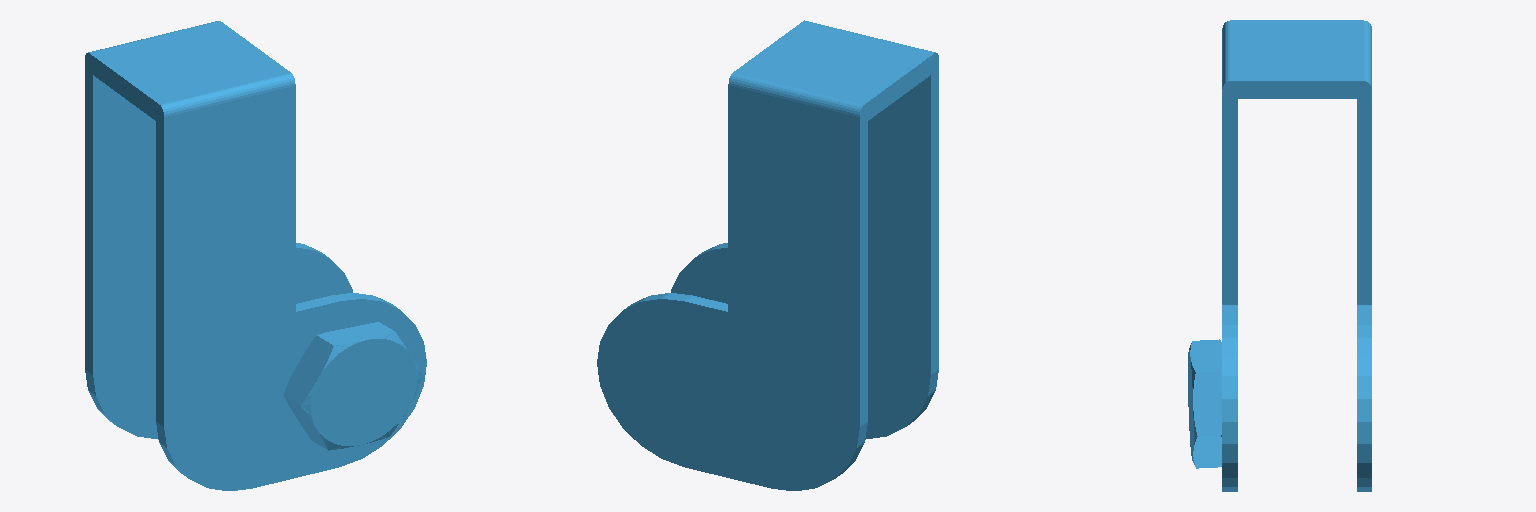
--- Facts derived from the render (not from the file) ---
Views: 3 orthographic renders of the robot side by side, from view 1: azimuth 30°, elevation 25°; view 2: azimuth 150°, elevation 25°; view 3: azimuth 270°, elevation 25°.
Robot: partnet_464e9b98-d955-4597-b746-4e8b73eab34b — 2 links, 1 joints (1 fixed); root link base; default pose: every joint at zero.
Links seen in each view (by area): view 1: link_1; view 2: link_1; view 3: link_1.
Boxes of the visible links, x1,y1,x2,y2 form: link_1: (85, 21, 426, 490); link_1: (597, 20, 938, 490); link_1: (1188, 20, 1371, 491).
Size in the robot's own frame: 0.1075 by 0.069 by 0.1572 metres.
Meshes: 3 distinct files referenced, 2 mesh visuals loaded (2 OBJ); not drawn: 1 (reference not matched to a file when rendering).

robot.urdf — partnet_464e9b98-d955-4597-b746-4e8b73eab34b:
<robot name="partnet_464e9b98-d955-4597-b746-4e8b73eab34b">
	<link name="base" />
	<link name="link_1">
		<collision>
			<origin xyz="0 0 0" />
			<geometry>
				<mesh filename="new5_objs/base_body-2-0.obj" />
			</geometry>
		</collision>
		<collision>
			<origin xyz="0 0 0" />
			<geometry>
				<mesh filename="new5_objs/base_body-2-1.obj" />
			</geometry>
		</collision>
		<collision>
			<origin xyz="0 0 0" />
			<geometry>
				<mesh filename="new5_objs/base_body-2-2.obj" />
			</geometry>
		</collision>
		<collision>
			<origin xyz="0 0 0" />
			<geometry>
				<mesh filename="new5_objs/base_body-2-3.obj" />
			</geometry>
		</collision>
		<collision>
			<origin xyz="0 0 0" />
			<geometry>
				<mesh filename="new5_objs/base_body-2-4.obj" />
			</geometry>
		</collision>
		<collision>
			<origin xyz="0 0 0" />
			<geometry>
				<mesh filename="new5_objs/base_body-2-5.obj" />
			</geometry>
		</collision>
		<collision>
			<origin xyz="0 0 0" />
			<geometry>
				<mesh filename="new5_objs/base_body-2-6.obj" />
			</geometry>
		</collision>
		<collision>
			<origin xyz="0 0 0" />
			<geometry>
				<mesh filename="new5_objs/base_body-2-7.obj" />
			</geometry>
		</collision>
		<collision>
			<origin xyz="0 0 0" />
			<geometry>
				<mesh filename="new5_objs/base_body-2-8.obj" />
			</geometry>
		</collision>
		<collision>
			<origin xyz="0 0 0" />
			<geometry>
				<mesh filename="new5_objs/base_body-2-9.obj" />
			</geometry>
		</collision>
		<collision>
			<origin xyz="0 0 0" />
			<geometry>
				<mesh filename="new5_objs/base_body-2-10.obj" />
			</geometry>
		</collision>
		<collision>
			<origin xyz="0 0 0" />
			<geometry>
				<mesh filename="new5_objs/base_body-2-11.obj" />
			</geometry>
		</collision>
		<collision>
			<origin xyz="0 0 0" />
			<geometry>
				<mesh filename="new5_objs/base_body-2-12.obj" />
			</geometry>
		</collision>
		<collision>
			<origin xyz="0 0 0" />
			<geometry>
				<mesh filename="new5_objs/base_body-2-13.obj" />
			</geometry>
		</collision>
		<collision>
			<origin xyz="0 0 0" />
			<geometry>
				<mesh filename="new5_objs/base_body-2-14.obj" />
			</geometry>
		</collision>
		<collision>
			<origin xyz="0 0 0" />
			<geometry>
				<mesh filename="new5_objs/base_body-2-15.obj" />
			</geometry>
		</collision>
		<collision>
			<origin xyz="0 0 0" />
			<geometry>
				<mesh filename="new5_objs/base_body-2-16.obj" />
			</geometry>
		</collision>
		<collision>
			<origin xyz="0 0 0" />
			<geometry>
				<mesh filename="new5_objs/base_body-2-17.obj" />
			</geometry>
		</collision>
		<collision>
			<origin xyz="0 0 0" />
			<geometry>
				<mesh filename="new5_objs/base_body-2-18.obj" />
			</geometry>
		</collision>
		<collision>
			<origin xyz="0 0 0" />
			<geometry>
				<mesh filename="new5_objs/base_body-2-19.obj" />
			</geometry>
		</collision>
		<collision>
			<origin xyz="0 0 0" />
			<geometry>
				<mesh filename="new5_objs/base_body-2-20.obj" />
			</geometry>
		</collision>
		<collision>
			<origin xyz="0 0 0" />
			<geometry>
				<mesh filename="new5_objs/base_body-2-21.obj" />
			</geometry>
		</collision>
		<collision>
			<origin xyz="0 0 0" />
			<geometry>
				<mesh filename="new5_objs/base_body-2-22.obj" />
			</geometry>
		</collision>
		<collision>
			<origin xyz="0 0 0" />
			<geometry>
				<mesh filename="new5_objs/base_body-2-23.obj" />
			</geometry>
		</collision>
		<collision>
			<origin xyz="0 0 0" />
			<geometry>
				<mesh filename="new5_objs/base_body-2-24.obj" />
			</geometry>
		</collision>
		<collision>
			<origin xyz="0 0 0" />
			<geometry>
				<mesh filename="new5_objs/base_body-2-25.obj" />
			</geometry>
		</collision>
		<collision>
			<origin xyz="0 0 0" />
			<geometry>
				<mesh filename="new5_objs/base_body-2-26.obj" />
			</geometry>
		</collision>
		<collision>
			<origin xyz="0 0 0" />
			<geometry>
				<mesh filename="new5_objs/base_body-2-27.obj" />
			</geometry>
		</collision>
		<collision>
			<origin xyz="0 0 0" />
			<geometry>
				<mesh filename="new5_objs/base_body-2-28.obj" />
			</geometry>
		</collision>
		<collision>
			<origin xyz="0 0 0" />
			<geometry>
				<mesh filename="new5_objs/base_body-2-29.obj" />
			</geometry>
		</collision>
		<collision>
			<origin xyz="0 0 0" />
			<geometry>
				<mesh filename="new5_objs/base_body-2-30.obj" />
			</geometry>
		</collision>
		<collision>
			<origin xyz="0 0 0" />
			<geometry>
				<mesh filename="new5_objs/base_body-2-31.obj" />
			</geometry>
		</collision>
		<collision>
			<origin xyz="0 0 0" />
			<geometry>
				<mesh filename="new5_objs/base_body-2-32.obj" />
			</geometry>
		</collision>
		<collision>
			<origin xyz="0 0 0" />
			<geometry>
				<mesh filename="new5_objs/base_body-2-33.obj" />
			</geometry>
		</collision>
		<collision>
			<origin xyz="0 0 0" />
			<geometry>
				<mesh filename="new5_objs/base_body-2-34.obj" />
			</geometry>
		</collision>
		<collision>
			<origin xyz="0 0 0" />
			<geometry>
				<mesh filename="new5_objs/base_body-2-35.obj" />
			</geometry>
		</collision>
		<collision>
			<origin xyz="0 0 0" />
			<geometry>
				<mesh filename="new5_objs/base_body-2-36.obj" />
			</geometry>
		</collision>
		<collision>
			<origin xyz="0 0 0" />
			<geometry>
				<mesh filename="new5_objs/base_body-2-37.obj" />
			</geometry>
		</collision>
		<collision>
			<origin xyz="0 0 0" />
			<geometry>
				<mesh filename="new5_objs/base_body-2-38.obj" />
			</geometry>
		</collision>
		<collision>
			<origin xyz="0 0 0" />
			<geometry>
				<mesh filename="new5_objs/base_body-2-39.obj" />
			</geometry>
		</collision>
		<collision>
			<origin xyz="0 0 0" />
			<geometry>
				<mesh filename="new5_objs/base_body-2-40.obj" />
			</geometry>
		</collision>
		<collision>
			<origin xyz="0 0 0" />
			<geometry>
				<mesh filename="new5_objs/base_body-2-41.obj" />
			</geometry>
		</collision>
		<collision>
			<origin xyz="0 0 0" />
			<geometry>
				<mesh filename="new5_objs/base_body-2-42.obj" />
			</geometry>
		</collision>
		<collision>
			<origin xyz="0 0 0" />
			<geometry>
				<mesh filename="new5_objs/base_body-2-43.obj" />
			</geometry>
		</collision>
		<collision>
			<origin xyz="0 0 0" />
			<geometry>
				<mesh filename="new5_objs/base_body-2-44.obj" />
			</geometry>
		</collision>
		<collision>
			<origin xyz="0 0 0" />
			<geometry>
				<mesh filename="new5_objs/base_body-2-45.obj" />
			</geometry>
		</collision>
		<collision>
			<origin xyz="0 0 0" />
			<geometry>
				<mesh filename="new5_objs/base_body-2-46.obj" />
			</geometry>
		</collision>
		<collision>
			<origin xyz="0 0 0" />
			<geometry>
				<mesh filename="new5_objs/base_body-2-47.obj" />
			</geometry>
		</collision>
		<collision>
			<origin xyz="0 0 0" />
			<geometry>
				<mesh filename="new5_objs/base_body-2-48.obj" />
			</geometry>
		</collision>
		<collision>
			<origin xyz="0 0 0" />
			<geometry>
				<mesh filename="new5_objs/base_body-2-49.obj" />
			</geometry>
		</collision>
		<collision>
			<origin xyz="0 0 0" />
			<geometry>
				<mesh filename="new5_objs/base_body-2-50.obj" />
			</geometry>
		</collision>
		<collision>
			<origin xyz="0 0 0" />
			<geometry>
				<mesh filename="new5_objs/base_body-2-51.obj" />
			</geometry>
		</collision>
		<collision>
			<origin xyz="0 0 0" />
			<geometry>
				<mesh filename="new5_objs/base_body-2-52.obj" />
			</geometry>
		</collision>
		<collision>
			<origin xyz="0 0 0" />
			<geometry>
				<mesh filename="new5_objs/base_body-2-53.obj" />
			</geometry>
		</collision>
		<collision>
			<origin xyz="0 0 0" />
			<geometry>
				<mesh filename="new5_objs/base_body-2-54.obj" />
			</geometry>
		</collision>
		<collision>
			<origin xyz="0 0 0" />
			<geometry>
				<mesh filename="new5_objs/base_body-2-55.obj" />
			</geometry>
		</collision>
		<collision>
			<origin xyz="0 0 0" />
			<geometry>
				<mesh filename="new5_objs/base_body-2-56.obj" />
			</geometry>
		</collision>
		<collision>
			<origin xyz="0 0 0" />
			<geometry>
				<mesh filename="new5_objs/base_body-2-57.obj" />
			</geometry>
		</collision>
		<collision>
			<origin xyz="0 0 0" />
			<geometry>
				<mesh filename="new5_objs/base_body-2-58.obj" />
			</geometry>
		</collision>
		<collision>
			<origin xyz="0 0 0" />
			<geometry>
				<mesh filename="new5_objs/base_body-2-59.obj" />
			</geometry>
		</collision>
		<collision>
			<origin xyz="0 0 0" />
			<geometry>
				<mesh filename="new5_objs/base_body-2-60.obj" />
			</geometry>
		</collision>
		<collision>
			<origin xyz="0 0 0" />
			<geometry>
				<mesh filename="new5_objs/base_body-2-61.obj" />
			</geometry>
		</collision>
		<collision>
			<origin xyz="0 0 0" />
			<geometry>
				<mesh filename="new5_objs/base_body-2-62.obj" />
			</geometry>
		</collision>
		<collision>
			<origin xyz="0 0 0" />
			<geometry>
				<mesh filename="new5_objs/base_body-2-63.obj" />
			</geometry>
		</collision>
		<collision>
			<origin xyz="0 0 0" />
			<geometry>
				<mesh filename="new5_objs/base_body-2-64.obj" />
			</geometry>
		</collision>
		<collision>
			<origin xyz="0 0 0" />
			<geometry>
				<mesh filename="new5_objs/base_body-2-65.obj" />
			</geometry>
		</collision>
		<collision>
			<origin xyz="0 0 0" />
			<geometry>
				<mesh filename="new5_objs/base_body-2-66.obj" />
			</geometry>
		</collision>
		<collision>
			<origin xyz="0 0 0" />
			<geometry>
				<mesh filename="new5_objs/base_body-2-67.obj" />
			</geometry>
		</collision>
		<collision>
			<origin xyz="0 0 0" />
			<geometry>
				<mesh filename="new5_objs/base_body-2-68.obj" />
			</geometry>
		</collision>
		<collision>
			<origin xyz="0 0 0" />
			<geometry>
				<mesh filename="new5_objs/base_body-2-69.obj" />
			</geometry>
		</collision>
		<collision>
			<origin xyz="0 0 0" />
			<geometry>
				<mesh filename="new5_objs/base_body-2-70.obj" />
			</geometry>
		</collision>
		<collision>
			<origin xyz="0 0 0" />
			<geometry>
				<mesh filename="new5_objs/base_body-2-71.obj" />
			</geometry>
		</collision>
		<collision>
			<origin xyz="0 0 0" />
			<geometry>
				<mesh filename="new5_objs/base_body-2-72.obj" />
			</geometry>
		</collision>
		<collision>
			<origin xyz="0 0 0" />
			<geometry>
				<mesh filename="new5_objs/base_body-2-73.obj" />
			</geometry>
		</collision>
		<collision>
			<origin xyz="0 0 0" />
			<geometry>
				<mesh filename="new5_objs/base_body-2-74.obj" />
			</geometry>
		</collision>
		<collision>
			<origin xyz="0 0 0" />
			<geometry>
				<mesh filename="new5_objs/base_body-2-75.obj" />
			</geometry>
		</collision>
		<collision>
			<origin xyz="0 0 0" />
			<geometry>
				<mesh filename="new5_objs/base_body-2-76.obj" />
			</geometry>
		</collision>
		<collision>
			<origin xyz="0 0 0" />
			<geometry>
				<mesh filename="new5_objs/base_body-2-77.obj" />
			</geometry>
		</collision>
		<collision>
			<origin xyz="0 0 0" />
			<geometry>
				<mesh filename="new5_objs/base_body-2-78.obj" />
			</geometry>
		</collision>
		<collision>
			<origin xyz="0 0 0" />
			<geometry>
				<mesh filename="new5_objs/base_body-2-79.obj" />
			</geometry>
		</collision>
		<collision>
			<origin xyz="0 0 0" />
			<geometry>
				<mesh filename="new5_objs/base_body-2-80.obj" />
			</geometry>
		</collision>
		<collision>
			<origin xyz="0 0 0" />
			<geometry>
				<mesh filename="new5_objs/base_body-2-81.obj" />
			</geometry>
		</collision>
		<collision>
			<origin xyz="0 0 0" />
			<geometry>
				<mesh filename="new5_objs/base_body-2-82.obj" />
			</geometry>
		</collision>
		<collision>
			<origin xyz="0 0 0" />
			<geometry>
				<mesh filename="new5_objs/base_body-2-83.obj" />
			</geometry>
		</collision>
		<collision>
			<origin xyz="0 0 0" />
			<geometry>
				<mesh filename="new5_objs/base_body-2-84.obj" />
			</geometry>
		</collision>
		<collision>
			<origin xyz="0 0 0" />
			<geometry>
				<mesh filename="new5_objs/base_body-2-85.obj" />
			</geometry>
		</collision>
		<collision>
			<origin xyz="0 0 0" />
			<geometry>
				<mesh filename="new5_objs/base_body-2-86.obj" />
			</geometry>
		</collision>
		<collision>
			<origin xyz="0 0 0" />
			<geometry>
				<mesh filename="new5_objs/base_body-2-87.obj" />
			</geometry>
		</collision>
		<collision>
			<origin xyz="0 0 0" />
			<geometry>
				<mesh filename="new5_objs/base_body-2-88.obj" />
			</geometry>
		</collision>
		<collision>
			<origin xyz="0 0 0" />
			<geometry>
				<mesh filename="new5_objs/base_body-2-89.obj" />
			</geometry>
		</collision>
		<collision>
			<origin xyz="0 0 0" />
			<geometry>
				<mesh filename="new5_objs/base_body-2-90.obj" />
			</geometry>
		</collision>
		<collision>
			<origin xyz="0 0 0" />
			<geometry>
				<mesh filename="new5_objs/base_body-2-91.obj" />
			</geometry>
		</collision>
		<collision>
			<origin xyz="0 0 0" />
			<geometry>
				<mesh filename="new5_objs/base_body-2-92.obj" />
			</geometry>
		</collision>
		<collision>
			<origin xyz="0 0 0" />
			<geometry>
				<mesh filename="new5_objs/base_body-2-93.obj" />
			</geometry>
		</collision>
		<collision>
			<origin xyz="0 0 0" />
			<geometry>
				<mesh filename="new5_objs/base_body-2-94.obj" />
			</geometry>
		</collision>
		<collision>
			<origin xyz="0 0 0" />
			<geometry>
				<mesh filename="new5_objs/base_body-2-95.obj" />
			</geometry>
		</collision>
		<collision>
			<origin xyz="0 0 0" />
			<geometry>
				<mesh filename="new5_objs/base_body-2-96.obj" />
			</geometry>
		</collision>
		<collision>
			<origin xyz="0 0 0" />
			<geometry>
				<mesh filename="new5_objs/base_body-2-97.obj" />
			</geometry>
		</collision>
		<collision>
			<origin xyz="0 0 0" />
			<geometry>
				<mesh filename="new5_objs/base_body-2-98.obj" />
			</geometry>
		</collision>
		<collision>
			<origin xyz="0 0 0" />
			<geometry>
				<mesh filename="new5_objs/base_body-2-99.obj" />
			</geometry>
		</collision>
		<collision>
			<origin xyz="0 0 0" />
			<geometry>
				<mesh filename="new5_objs/base_body-2-100.obj" />
			</geometry>
		</collision>
		<collision>
			<origin xyz="0 0 0" />
			<geometry>
				<mesh filename="new5_objs/base_body-2-101.obj" />
			</geometry>
		</collision>
		<collision>
			<origin xyz="0 0 0" />
			<geometry>
				<mesh filename="new5_objs/base_body-2-102.obj" />
			</geometry>
		</collision>
		<collision>
			<origin xyz="0 0 0" />
			<geometry>
				<mesh filename="new5_objs/base_body-2-103.obj" />
			</geometry>
		</collision>
		<collision>
			<origin xyz="0 0 0" />
			<geometry>
				<mesh filename="new5_objs/base_body-2-104.obj" />
			</geometry>
		</collision>
		<collision>
			<origin xyz="0 0 0" />
			<geometry>
				<mesh filename="new5_objs/base_body-2-105.obj" />
			</geometry>
		</collision>
		<collision>
			<origin xyz="0 0 0" />
			<geometry>
				<mesh filename="new5_objs/base_body-2-106.obj" />
			</geometry>
		</collision>
		<collision>
			<origin xyz="0 0 0" />
			<geometry>
				<mesh filename="new5_objs/base_body-2-107.obj" />
			</geometry>
		</collision>
		<collision>
			<origin xyz="0 0 0" />
			<geometry>
				<mesh filename="new5_objs/base_body-2-108.obj" />
			</geometry>
		</collision>
		<collision>
			<origin xyz="0 0 0" />
			<geometry>
				<mesh filename="new5_objs/base_body-2-109.obj" />
			</geometry>
		</collision>
		<collision>
			<origin xyz="0 0 0" />
			<geometry>
				<mesh filename="new5_objs/base_body-2-110.obj" />
			</geometry>
		</collision>
		<collision>
			<origin xyz="0 0 0" />
			<geometry>
				<mesh filename="new5_objs/base_body-2-111.obj" />
			</geometry>
		</collision>
		<collision>
			<origin xyz="0 0 0" />
			<geometry>
				<mesh filename="new5_objs/base_body-2-112.obj" />
			</geometry>
		</collision>
		<collision>
			<origin xyz="0 0 0" />
			<geometry>
				<mesh filename="new5_objs/base_body-2-113.obj" />
			</geometry>
		</collision>
		<collision>
			<origin xyz="0 0 0" />
			<geometry>
				<mesh filename="new5_objs/base_body-2-114.obj" />
			</geometry>
		</collision>
		<collision>
			<origin xyz="0 0 0" />
			<geometry>
				<mesh filename="new5_objs/base_body-2-115.obj" />
			</geometry>
		</collision>
		<collision>
			<origin xyz="0 0 0" />
			<geometry>
				<mesh filename="new5_objs/base_body-2-116.obj" />
			</geometry>
		</collision>
		<collision>
			<origin xyz="0 0 0" />
			<geometry>
				<mesh filename="new5_objs/base_body-2-117.obj" />
			</geometry>
		</collision>
		<collision>
			<origin xyz="0 0 0" />
			<geometry>
				<mesh filename="new5_objs/base_body-2-118.obj" />
			</geometry>
		</collision>
		<collision>
			<origin xyz="0 0 0" />
			<geometry>
				<mesh filename="new5_objs/base_body-2-119.obj" />
			</geometry>
		</collision>
		<collision>
			<origin xyz="0 0 0" />
			<geometry>
				<mesh filename="new5_objs/base_body-2-120.obj" />
			</geometry>
		</collision>
		<collision>
			<origin xyz="0 0 0" />
			<geometry>
				<mesh filename="new5_objs/base_body-2-121.obj" />
			</geometry>
		</collision>
		<collision>
			<origin xyz="0 0 0" />
			<geometry>
				<mesh filename="new5_objs/base_body-2-122.obj" />
			</geometry>
		</collision>
		<collision>
			<origin xyz="0 0 0" />
			<geometry>
				<mesh filename="new5_objs/base_body-2-123.obj" />
			</geometry>
		</collision>
		<collision>
			<origin xyz="0 0 0" />
			<geometry>
				<mesh filename="new5_objs/base_body-2-124.obj" />
			</geometry>
		</collision>
		<collision>
			<origin xyz="0 0 0" />
			<geometry>
				<mesh filename="new5_objs/base_body-2-125.obj" />
			</geometry>
		</collision>
		<collision>
			<origin xyz="0 0 0" />
			<geometry>
				<mesh filename="new5_objs/base_body-2-126.obj" />
			</geometry>
		</collision>
		<collision>
			<origin xyz="0 0 0" />
			<geometry>
				<mesh filename="new5_objs/base_body-2-127.obj" />
			</geometry>
		</collision>
		<collision>
			<origin xyz="0 0 0" />
			<geometry>
				<mesh filename="new5_objs/base_body-2-128.obj" />
			</geometry>
		</collision>
		<collision>
			<origin xyz="0 0 0" />
			<geometry>
				<mesh filename="new5_objs/base_body-2-129.obj" />
			</geometry>
		</collision>
		<collision>
			<origin xyz="0 0 0" />
			<geometry>
				<mesh filename="new5_objs/base_body-2-130.obj" />
			</geometry>
		</collision>
		<collision>
			<origin xyz="0 0 0" />
			<geometry>
				<mesh filename="new5_objs/base_body-2-131.obj" />
			</geometry>
		</collision>
		<collision>
			<origin xyz="0 0 0" />
			<geometry>
				<mesh filename="new5_objs/base_body-2-132.obj" />
			</geometry>
		</collision>
		<collision>
			<origin xyz="0 0 0" />
			<geometry>
				<mesh filename="new5_objs/base_body-2-133.obj" />
			</geometry>
		</collision>
		<collision>
			<origin xyz="0 0 0" />
			<geometry>
				<mesh filename="new5_objs/base_body-2-134.obj" />
			</geometry>
		</collision>
		<collision>
			<origin xyz="0 0 0" />
			<geometry>
				<mesh filename="new5_objs/base_body-2-135.obj" />
			</geometry>
		</collision>
		<collision>
			<origin xyz="0 0 0" />
			<geometry>
				<mesh filename="new5_objs/base_body-2-136.obj" />
			</geometry>
		</collision>
		<collision>
			<origin xyz="0 0 0" />
			<geometry>
				<mesh filename="new5_objs/base_body-2-137.obj" />
			</geometry>
		</collision>
		<collision>
			<origin xyz="0 0 0" />
			<geometry>
				<mesh filename="new5_objs/base_body-2-138.obj" />
			</geometry>
		</collision>
		<collision>
			<origin xyz="0 0 0" />
			<geometry>
				<mesh filename="new5_objs/base_body-2-139.obj" />
			</geometry>
		</collision>
		<collision>
			<origin xyz="0 0 0" />
			<geometry>
				<mesh filename="new5_objs/base_body-2-140.obj" />
			</geometry>
		</collision>
		<collision>
			<origin xyz="0 0 0" />
			<geometry>
				<mesh filename="new5_objs/base_body-2-141.obj" />
			</geometry>
		</collision>
		<collision>
			<origin xyz="0 0 0" />
			<geometry>
				<mesh filename="new5_objs/base_body-2-142.obj" />
			</geometry>
		</collision>
		<collision>
			<origin xyz="0 0 0" />
			<geometry>
				<mesh filename="new5_objs/base_body-2-143.obj" />
			</geometry>
		</collision>
		<collision>
			<origin xyz="0 0 0" />
			<geometry>
				<mesh filename="new5_objs/base_body-2-144.obj" />
			</geometry>
		</collision>
		<collision>
			<origin xyz="0 0 0" />
			<geometry>
				<mesh filename="new5_objs/base_body-2-145.obj" />
			</geometry>
		</collision>
		<collision>
			<origin xyz="0 0 0" />
			<geometry>
				<mesh filename="new5_objs/base_body-2-146.obj" />
			</geometry>
		</collision>
		<collision>
			<origin xyz="0 0 0" />
			<geometry>
				<mesh filename="new5_objs/base_body-2-147.obj" />
			</geometry>
		</collision>
		<collision>
			<origin xyz="0 0 0" />
			<geometry>
				<mesh filename="new5_objs/base_body-2-148.obj" />
			</geometry>
		</collision>
		<collision>
			<origin xyz="0 0 0" />
			<geometry>
				<mesh filename="new5_objs/base_body-2-149.obj" />
			</geometry>
		</collision>
		<collision>
			<origin xyz="0 0 0" />
			<geometry>
				<mesh filename="new5_objs/base_body-2-150.obj" />
			</geometry>
		</collision>
		<collision>
			<origin xyz="0 0 0" />
			<geometry>
				<mesh filename="new5_objs/base_body-2-151.obj" />
			</geometry>
		</collision>
		<collision>
			<origin xyz="0 0 0" />
			<geometry>
				<mesh filename="new5_objs/base_body-2-152.obj" />
			</geometry>
		</collision>
		<collision>
			<origin xyz="0 0 0" />
			<geometry>
				<mesh filename="new5_objs/base_body-2-153.obj" />
			</geometry>
		</collision>
		<collision>
			<origin xyz="0 0 0" />
			<geometry>
				<mesh filename="new5_objs/base_body-2-154.obj" />
			</geometry>
		</collision>
		<collision>
			<origin xyz="0 0 0" />
			<geometry>
				<mesh filename="new5_objs/base_body-2-155.obj" />
			</geometry>
		</collision>
		<collision>
			<origin xyz="0 0 0" />
			<geometry>
				<mesh filename="new5_objs/base_body-2-156.obj" />
			</geometry>
		</collision>
		<collision>
			<origin xyz="0 0 0" />
			<geometry>
				<mesh filename="new5_objs/base_body-2-157.obj" />
			</geometry>
		</collision>
		<collision>
			<origin xyz="0 0 0" />
			<geometry>
				<mesh filename="new5_objs/base_body-2-158.obj" />
			</geometry>
		</collision>
		<collision>
			<origin xyz="0 0 0" />
			<geometry>
				<mesh filename="new5_objs/base_body-2-159.obj" />
			</geometry>
		</collision>
		<collision>
			<origin xyz="0 0 0" />
			<geometry>
				<mesh filename="new5_objs/base_body-2-160.obj" />
			</geometry>
		</collision>
		<collision>
			<origin xyz="0 0 0" />
			<geometry>
				<mesh filename="new5_objs/base_body-2-161.obj" />
			</geometry>
		</collision>
		<collision>
			<origin xyz="0 0 0" />
			<geometry>
				<mesh filename="new5_objs/base_body-2-162.obj" />
			</geometry>
		</collision>
		<collision>
			<origin xyz="0 0 0" />
			<geometry>
				<mesh filename="new5_objs/base_body-2-163.obj" />
			</geometry>
		</collision>
		<collision>
			<origin xyz="0 0 0" />
			<geometry>
				<mesh filename="new5_objs/base_body-2-164.obj" />
			</geometry>
		</collision>
		<collision>
			<origin xyz="0 0 0" />
			<geometry>
				<mesh filename="new5_objs/base_body-2-165.obj" />
			</geometry>
		</collision>
		<collision>
			<origin xyz="0 0 0" />
			<geometry>
				<mesh filename="new5_objs/base_body-2-166.obj" />
			</geometry>
		</collision>
		<collision>
			<origin xyz="0 0 0" />
			<geometry>
				<mesh filename="new5_objs/base_body-2-167.obj" />
			</geometry>
		</collision>
		<collision>
			<origin xyz="0 0 0" />
			<geometry>
				<mesh filename="new5_objs/base_body-2-168.obj" />
			</geometry>
		</collision>
		<collision>
			<origin xyz="0 0 0" />
			<geometry>
				<mesh filename="new5_objs/base_body-2-169.obj" />
			</geometry>
		</collision>
		<collision>
			<origin xyz="0 0 0" />
			<geometry>
				<mesh filename="new5_objs/base_body-2-170.obj" />
			</geometry>
		</collision>
		<collision>
			<origin xyz="0 0 0" />
			<geometry>
				<mesh filename="new5_objs/base_body-2-171.obj" />
			</geometry>
		</collision>
		<collision>
			<origin xyz="0 0 0" />
			<geometry>
				<mesh filename="new5_objs/base_body-2-172.obj" />
			</geometry>
		</collision>
		<collision>
			<origin xyz="0 0 0" />
			<geometry>
				<mesh filename="new5_objs/base_body-2-173.obj" />
			</geometry>
		</collision>
		<collision>
			<origin xyz="0 0 0" />
			<geometry>
				<mesh filename="new5_objs/base_body-2-174.obj" />
			</geometry>
		</collision>
		<collision>
			<origin xyz="0 0 0" />
			<geometry>
				<mesh filename="new5_objs/base_body-2-175.obj" />
			</geometry>
		</collision>
		<collision>
			<origin xyz="0 0 0" />
			<geometry>
				<mesh filename="new5_objs/base_body-2-176.obj" />
			</geometry>
		</collision>
		<collision>
			<origin xyz="0 0 0" />
			<geometry>
				<mesh filename="new5_objs/base_body-2-177.obj" />
			</geometry>
		</collision>
		<collision>
			<origin xyz="0 0 0" />
			<geometry>
				<mesh filename="new5_objs/base_body-2-178.obj" />
			</geometry>
		</collision>
		<collision>
			<origin xyz="0 0 0" />
			<geometry>
				<mesh filename="new5_objs/base_body-2-179.obj" />
			</geometry>
		</collision>
		<collision>
			<origin xyz="0 0 0" />
			<geometry>
				<mesh filename="new5_objs/base_body-2-180.obj" />
			</geometry>
		</collision>
		<collision>
			<origin xyz="0 0 0" />
			<geometry>
				<mesh filename="new5_objs/base_body-2-181.obj" />
			</geometry>
		</collision>
		<collision>
			<origin xyz="0 0 0" />
			<geometry>
				<mesh filename="new5_objs/base_body-2-182.obj" />
			</geometry>
		</collision>
		<collision>
			<origin xyz="0 0 0" />
			<geometry>
				<mesh filename="new5_objs/base_body-2-183.obj" />
			</geometry>
		</collision>
		<collision>
			<origin xyz="0 0 0" />
			<geometry>
				<mesh filename="new5_objs/base_body-2-184.obj" />
			</geometry>
		</collision>
		<collision>
			<origin xyz="0 0 0" />
			<geometry>
				<mesh filename="new5_objs/base_body-2-185.obj" />
			</geometry>
		</collision>
		<collision>
			<origin xyz="0 0 0" />
			<geometry>
				<mesh filename="new5_objs/base_body-2-186.obj" />
			</geometry>
		</collision>
		<collision>
			<origin xyz="0 0 0" />
			<geometry>
				<mesh filename="new5_objs/base_body-2-187.obj" />
			</geometry>
		</collision>
		<collision>
			<origin xyz="0 0 0" />
			<geometry>
				<mesh filename="new5_objs/base_body-2-188.obj" />
			</geometry>
		</collision>
		<collision>
			<origin xyz="0 0 0" />
			<geometry>
				<mesh filename="new5_objs/base_body-2-189.obj" />
			</geometry>
		</collision>
		<collision>
			<origin xyz="0 0 0" />
			<geometry>
				<mesh filename="new5_objs/base_body-2-190.obj" />
			</geometry>
		</collision>
		<collision>
			<origin xyz="0 0 0" />
			<geometry>
				<mesh filename="new5_objs/base_body-2-191.obj" />
			</geometry>
		</collision>
		<collision>
			<origin xyz="0 0 0" />
			<geometry>
				<mesh filename="new5_objs/base_body-2-192.obj" />
			</geometry>
		</collision>
		<collision>
			<origin xyz="0 0 0" />
			<geometry>
				<mesh filename="new5_objs/base_body-2-193.obj" />
			</geometry>
		</collision>
		<collision>
			<origin xyz="0 0 0" />
			<geometry>
				<mesh filename="new5_objs/base_body-2-194.obj" />
			</geometry>
		</collision>
		<collision>
			<origin xyz="0 0 0" />
			<geometry>
				<mesh filename="new5_objs/base_body-2-195.obj" />
			</geometry>
		</collision>
		<collision>
			<origin xyz="0 0 0" />
			<geometry>
				<mesh filename="new5_objs/base_body-2-196.obj" />
			</geometry>
		</collision>
		<collision>
			<origin xyz="0 0 0" />
			<geometry>
				<mesh filename="new5_objs/base_body-2-197.obj" />
			</geometry>
		</collision>
		<collision>
			<origin xyz="0 0 0" />
			<geometry>
				<mesh filename="new5_objs/base_body-2-198.obj" />
			</geometry>
		</collision>
		<collision>
			<origin xyz="0 0 0" />
			<geometry>
				<mesh filename="new5_objs/base_body-2-199.obj" />
			</geometry>
		</collision>
		<collision>
			<origin xyz="0 0 0" />
			<geometry>
				<mesh filename="new5_objs/base_body-2-200.obj" />
			</geometry>
		</collision>
		<collision>
			<origin xyz="0 0 0" />
			<geometry>
				<mesh filename="new5_objs/base_body-2-201.obj" />
			</geometry>
		</collision>
		<collision>
			<origin xyz="0 0 0" />
			<geometry>
				<mesh filename="new5_objs/base_body-2-202.obj" />
			</geometry>
		</collision>
		<collision>
			<origin xyz="0 0 0" />
			<geometry>
				<mesh filename="new5_objs/base_body-2-203.obj" />
			</geometry>
		</collision>
		<collision>
			<origin xyz="0 0 0" />
			<geometry>
				<mesh filename="new5_objs/base_body-2-204.obj" />
			</geometry>
		</collision>
		<collision>
			<origin xyz="0 0 0" />
			<geometry>
				<mesh filename="new5_objs/base_body-2-205.obj" />
			</geometry>
		</collision>
		<collision>
			<origin xyz="0 0 0" />
			<geometry>
				<mesh filename="new5_objs/base_body-2-206.obj" />
			</geometry>
		</collision>
		<collision>
			<origin xyz="0 0 0" />
			<geometry>
				<mesh filename="new5_objs/base_body-2-207.obj" />
			</geometry>
		</collision>
		<collision>
			<origin xyz="0 0 0" />
			<geometry>
				<mesh filename="new5_objs/base_body-2-208.obj" />
			</geometry>
		</collision>
		<collision>
			<origin xyz="0 0 0" />
			<geometry>
				<mesh filename="new5_objs/base_body-2-209.obj" />
			</geometry>
		</collision>
		<collision>
			<origin xyz="0 0 0" />
			<geometry>
				<mesh filename="new5_objs/base_body-2-210.obj" />
			</geometry>
		</collision>
		<collision>
			<origin xyz="0 0 0" />
			<geometry>
				<mesh filename="new5_objs/base_body-2-211.obj" />
			</geometry>
		</collision>
		<collision>
			<origin xyz="0 0 0" />
			<geometry>
				<mesh filename="new5_objs/base_body-2-212.obj" />
			</geometry>
		</collision>
		<collision>
			<origin xyz="0 0 0" />
			<geometry>
				<mesh filename="new5_objs/base_body-2-213.obj" />
			</geometry>
		</collision>
		<collision>
			<origin xyz="0 0 0" />
			<geometry>
				<mesh filename="new5_objs/base_body-2-214.obj" />
			</geometry>
		</collision>
		<collision>
			<origin xyz="0 0 0" />
			<geometry>
				<mesh filename="new5_objs/base_body-2-215.obj" />
			</geometry>
		</collision>
		<collision>
			<origin xyz="0 0 0" />
			<geometry>
				<mesh filename="new5_objs/base_body-2-216.obj" />
			</geometry>
		</collision>
		<collision>
			<origin xyz="0 0 0" />
			<geometry>
				<mesh filename="new5_objs/base_body-2-217.obj" />
			</geometry>
		</collision>
		<collision>
			<origin xyz="0 0 0" />
			<geometry>
				<mesh filename="new5_objs/base_body-2-218.obj" />
			</geometry>
		</collision>
		<collision>
			<origin xyz="0 0 0" />
			<geometry>
				<mesh filename="new5_objs/base_body-2-219.obj" />
			</geometry>
		</collision>
		<collision>
			<origin xyz="0 0 0" />
			<geometry>
				<mesh filename="new5_objs/base_body-2-220.obj" />
			</geometry>
		</collision>
		<collision>
			<origin xyz="0 0 0" />
			<geometry>
				<mesh filename="new5_objs/base_body-2-221.obj" />
			</geometry>
		</collision>
		<collision>
			<origin xyz="0 0 0" />
			<geometry>
				<mesh filename="new5_objs/base_body-2-222.obj" />
			</geometry>
		</collision>
		<collision>
			<origin xyz="0 0 0" />
			<geometry>
				<mesh filename="new5_objs/base_body-2-223.obj" />
			</geometry>
		</collision>
		<collision>
			<origin xyz="0 0 0" />
			<geometry>
				<mesh filename="new5_objs/base_body-2-224.obj" />
			</geometry>
		</collision>
		<collision>
			<origin xyz="0 0 0" />
			<geometry>
				<mesh filename="new5_objs/base_body-2-225.obj" />
			</geometry>
		</collision>
		<collision>
			<origin xyz="0 0 0" />
			<geometry>
				<mesh filename="new5_objs/base_body-2-226.obj" />
			</geometry>
		</collision>
		<collision>
			<origin xyz="0 0 0" />
			<geometry>
				<mesh filename="new5_objs/base_body-2-227.obj" />
			</geometry>
		</collision>
		<collision>
			<origin xyz="0 0 0" />
			<geometry>
				<mesh filename="new5_objs/base_body-2-228.obj" />
			</geometry>
		</collision>
		<collision>
			<origin xyz="0 0 0" />
			<geometry>
				<mesh filename="new5_objs/base_body-2-229.obj" />
			</geometry>
		</collision>
		<visual name="base_body-2">
			<origin xyz="0 0 0" />
			<geometry>
				<mesh filename="textured_objs/original-2.obj" />
			</geometry>
		</visual>
		<visual name="base_body-2">
			<origin xyz="0 0 0" />
			<geometry>
				<mesh filename="textured_objs/original-7.obj" />
			</geometry>
		</visual>
		<visual name="base_body-2">
			<origin xyz="0 0 0" />
			<geometry>
				<mesh filename="textured_objs/original-1.obj" />
			</geometry>
		</visual>
		</link>
	<joint name="joint_1" type="fixed">
		<origin rpy="1.570796326794897 0 -1.570796326794897" xyz="0 0 0" />
		<child link="link_1" />
		<parent link="base" />
	</joint>
</robot>
